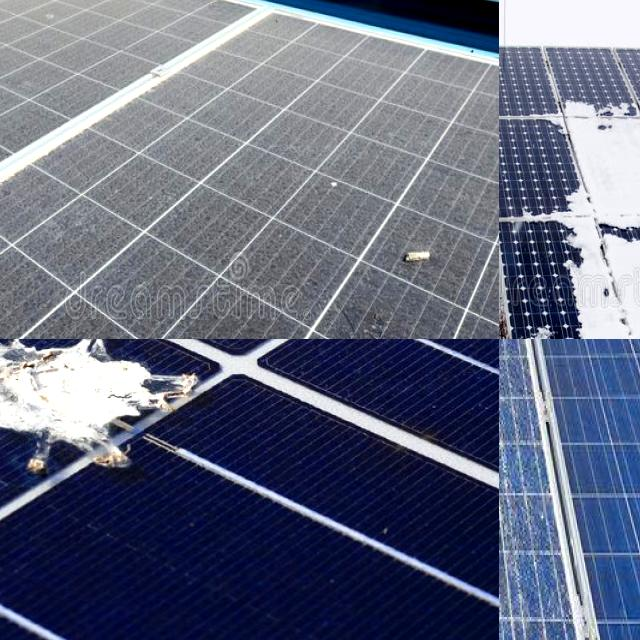bird: (0, 339, 203, 487)
dust: (50, 152, 175, 339), (211, 172, 370, 308), (212, 50, 360, 158), (402, 98, 498, 249), (0, 12, 61, 176), (24, 0, 135, 84), (0, 221, 53, 339), (395, 278, 491, 339), (388, 226, 457, 283)
hotspot: (499, 496, 545, 591)
panel: (537, 98, 640, 233), (518, 244, 617, 339), (499, 173, 565, 229), (601, 207, 640, 283), (499, 188, 524, 278), (499, 236, 525, 295)
